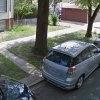Car: (33, 34, 100, 92)
